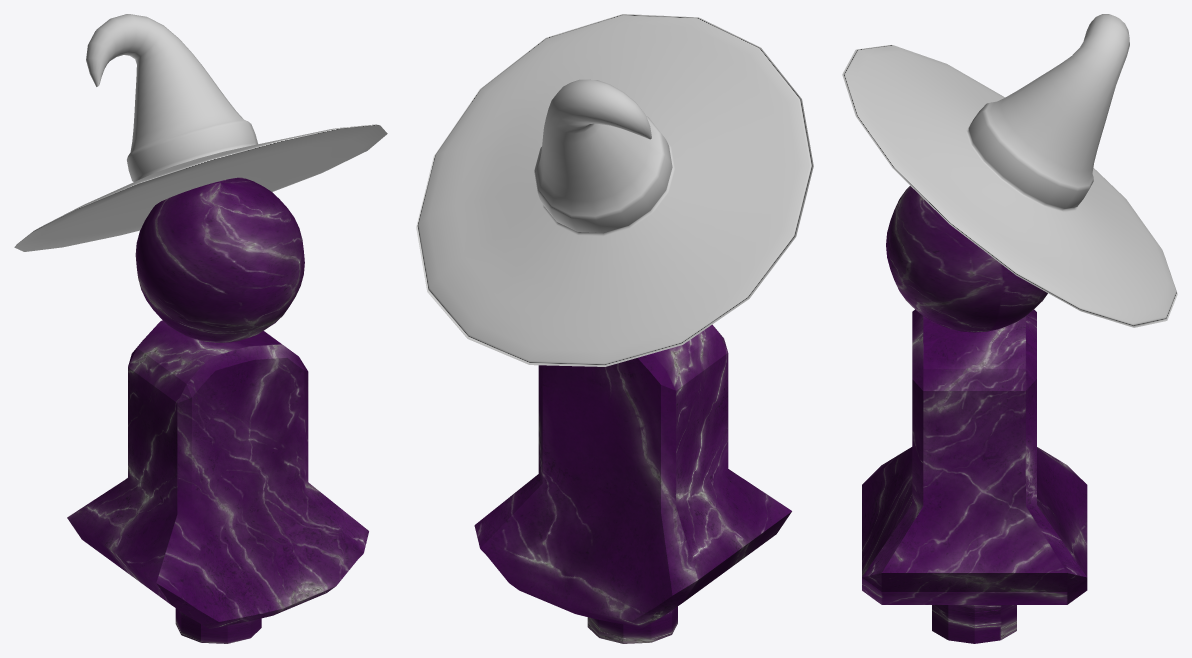
Rendered from WitchCharcater.fbx.
3 views of the same model, side by side, from view 1: azimuth 30°, elevation 25°; view 2: azimuth 150°, elevation 25°; view 3: azimuth 270°, elevation 25° (orthographic). The views are drawn at different scales.
Parts seen in each view (by area): view 1: pCylinder2, Assigmne_Objectst_3:Hat; view 2: Assigmne_Objectst_3:Hat, pCylinder2; view 3: pCylinder2, Assigmne_Objectst_3:Hat.
Part boxes in pixels (x1,y1,x2,y2): pCylinder2: (67, 177, 368, 643); Assigmne_Objectst_3:Hat: (14, 14, 387, 251); Assigmne_Objectst_3:Hat: (416, 14, 813, 366); pCylinder2: (474, 324, 791, 643); pCylinder2: (862, 186, 1087, 643); Assigmne_Objectst_3:Hat: (842, 14, 1177, 327).
Bounding box in the file's own units: 3.73 × 5.97 × 3.07.
